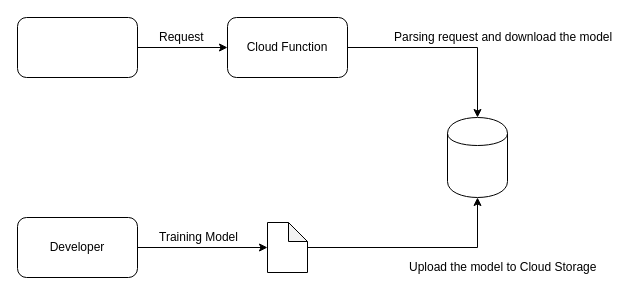
This 640x295 diagram has some shape labels left out. Each missing label, with the box of its shape:
Client: (16, 16, 138, 78)
Cloud Storage: (446, 116, 508, 198)
